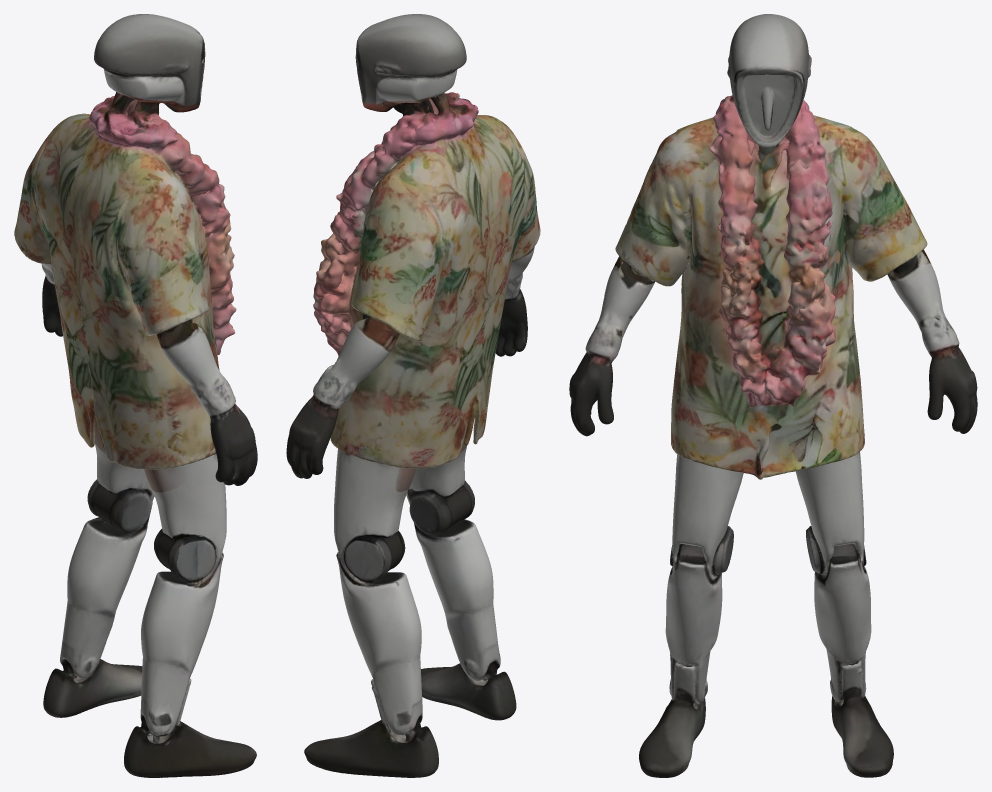
3 views of the same model, side by side, from view 1: azimuth 30°, elevation 25°; view 2: azimuth 150°, elevation 25°; view 3: azimuth 270°, elevation 25° (orthographic). The views are drawn at different scales.
Parts seen in each view (by area): view 1: tripo_node_bf81256d-4db2-4fa4-8dc5-39d7989f4bea; view 2: tripo_node_bf81256d-4db2-4fa4-8dc5-39d7989f4bea; view 3: tripo_node_bf81256d-4db2-4fa4-8dc5-39d7989f4bea.
Part boxes in pixels (x1,y1,x2,y2): tripo_node_bf81256d-4db2-4fa4-8dc5-39d7989f4bea: (14, 14, 257, 777); tripo_node_bf81256d-4db2-4fa4-8dc5-39d7989f4bea: (286, 14, 540, 777); tripo_node_bf81256d-4db2-4fa4-8dc5-39d7989f4bea: (569, 14, 977, 777).
Bounding box in the file's own units: 0.228 × 1 × 0.5064.
1 material, 1 textured.
